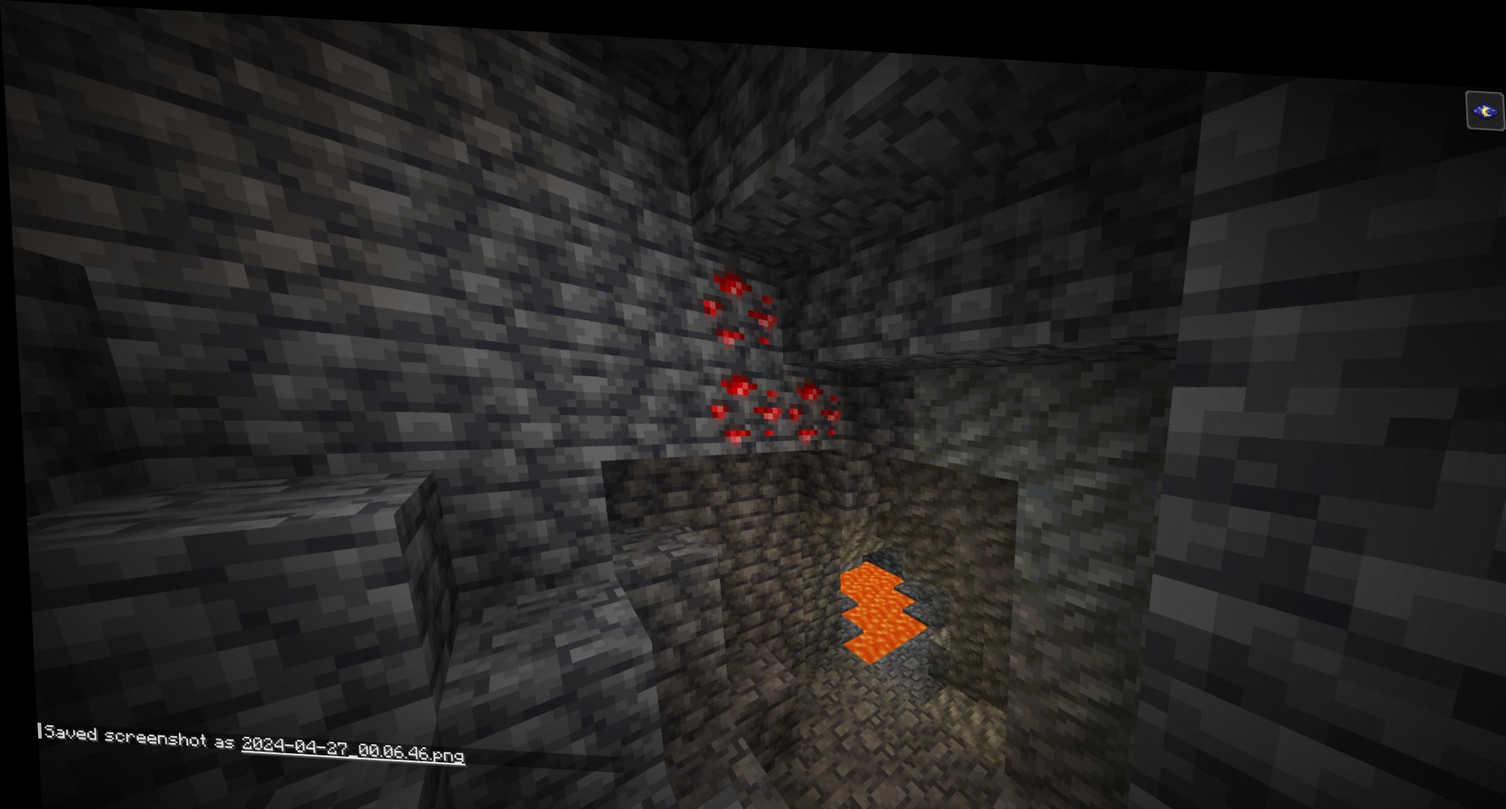redstone ore: (697, 253, 778, 348), (703, 361, 783, 439), (776, 355, 842, 439)
